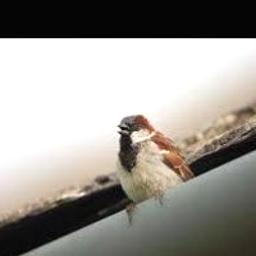Sparrow: (115, 115, 196, 220)
